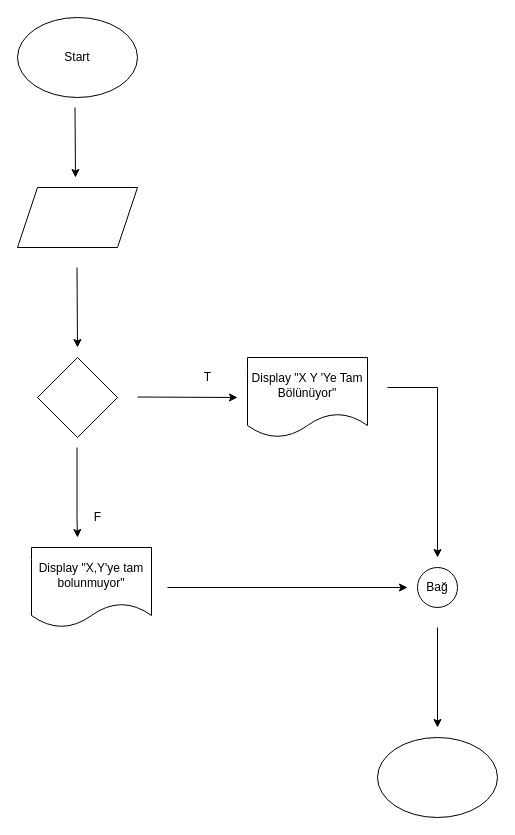
Image size: 515x835. Some labels were removed from this diagram. The centre of each missing label's shape, as x and y in pixels:
"GET X,Y" belongs at point (77, 217).
"İF X/Y Mod2 = 0" belongs at point (77, 397).
